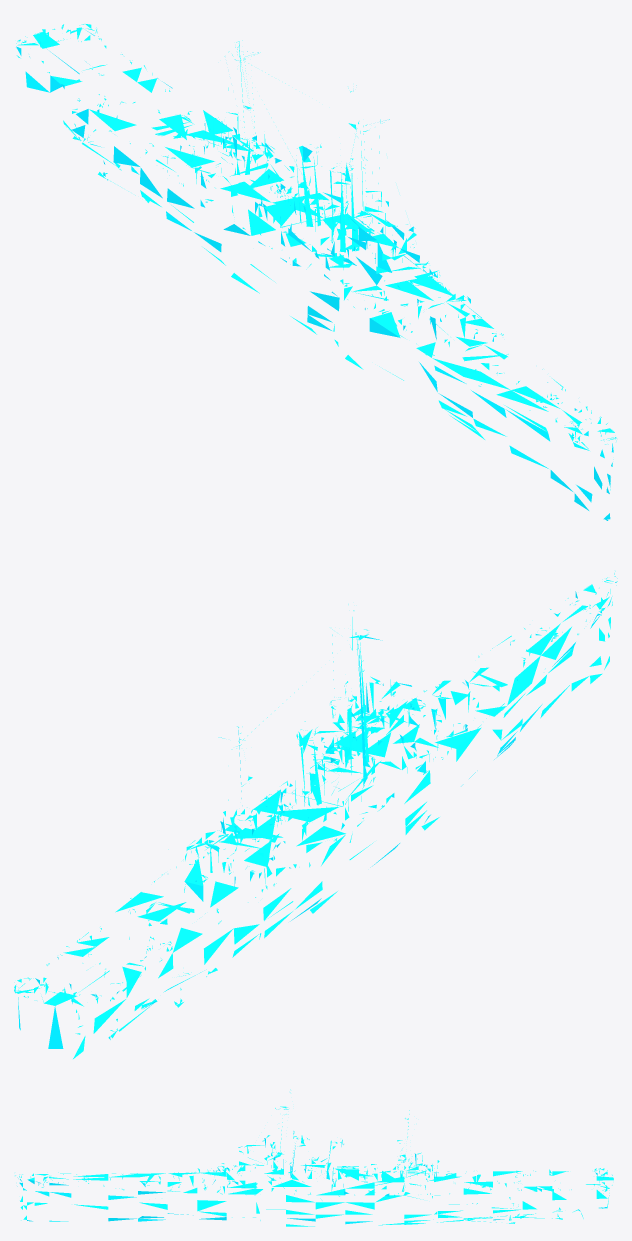
File: Wichita.glb
The picture shows the model from 3 angles, top to bottom: view 1: azimuth 30°, elevation 25°; view 2: azimuth 150°, elevation 25°; view 3: azimuth 270°, elevation 25°; orthographic projection. The views are drawn at different scales.
Size of the model in its own units: 1.35 by 3.01 by 12.44.
